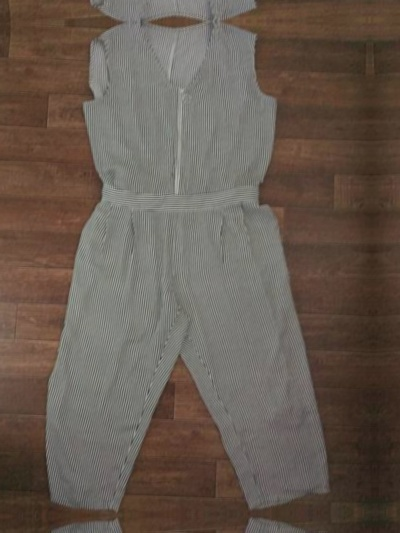Body: (21, 25, 345, 513), (16, 0, 339, 19), (27, 517, 351, 533), (395, 0, 400, 14)
